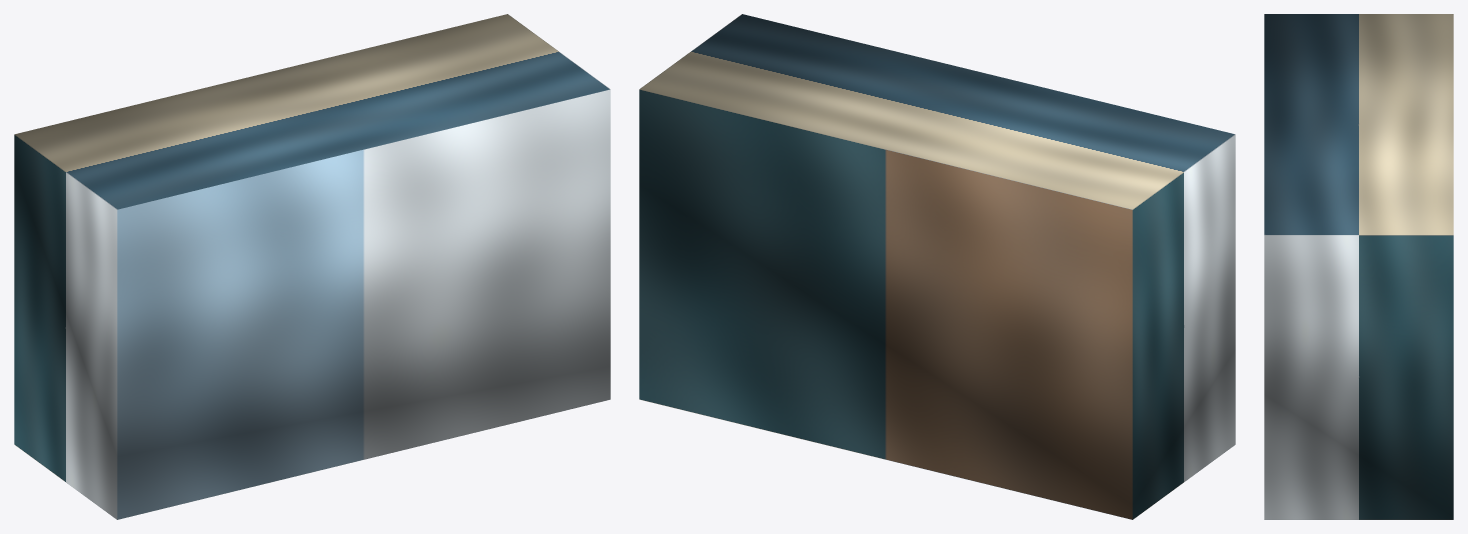
File: cliff_snow.glb
3 renders of one model, left to right at view 1: azimuth 30°, elevation 25°; view 2: azimuth 150°, elevation 25°; view 3: azimuth 270°, elevation 25°, orthographic. The views are drawn at different scales.
Visible parts, largest first — view 1: col; view 2: col; view 3: col.
Part boxes in pixels (left/top/right/bottom): col: left=14, top=14, right=610, bottom=519; col: left=639, top=14, right=1235, bottom=519; col: left=1264, top=14, right=1453, bottom=519.
Size of what is drawn, in the model's own units: 9.95 by 5.98 by 3.6.
Materials: 1 (1 with a texture image).
